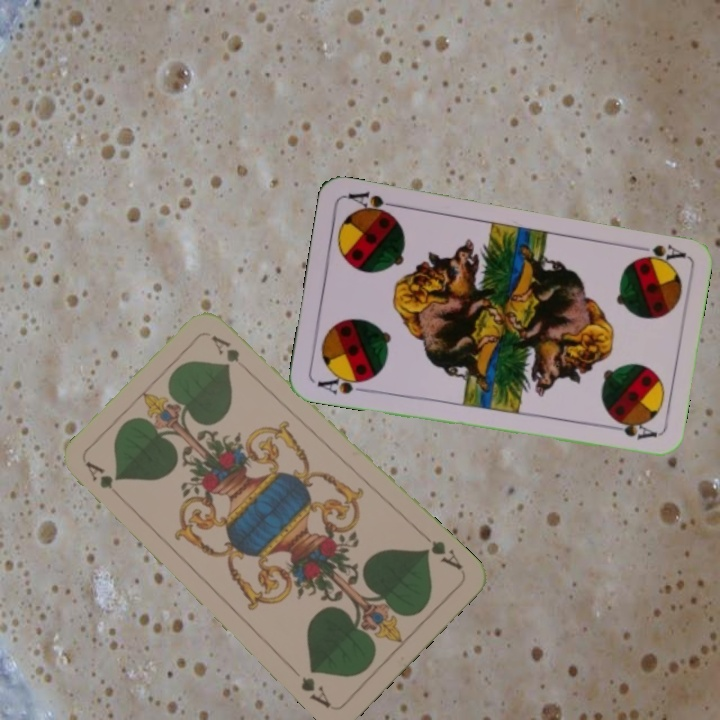GA: (82, 457, 128, 505), (418, 529, 465, 573)
SA: (313, 370, 373, 398), (628, 240, 688, 264)
